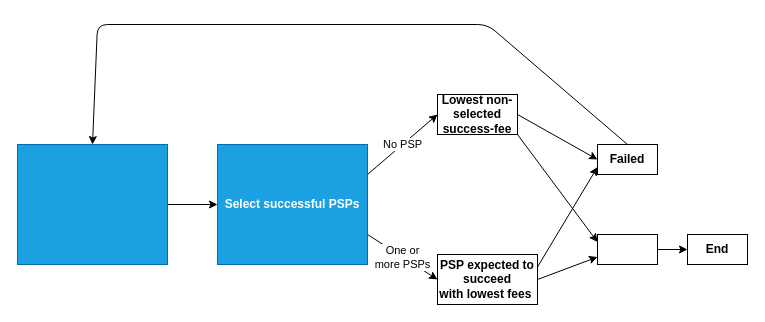
The diagram is 765 pixels wide and 322 high, and some of its shapes have lost their labels. The shapes that lost their labels are listed below. From the top down, each one's centre as x and y in pixels, then its label:
the point at 92,204: Prediction whether transaction will succeed of fail for each PSP
the point at 627,249: Success
